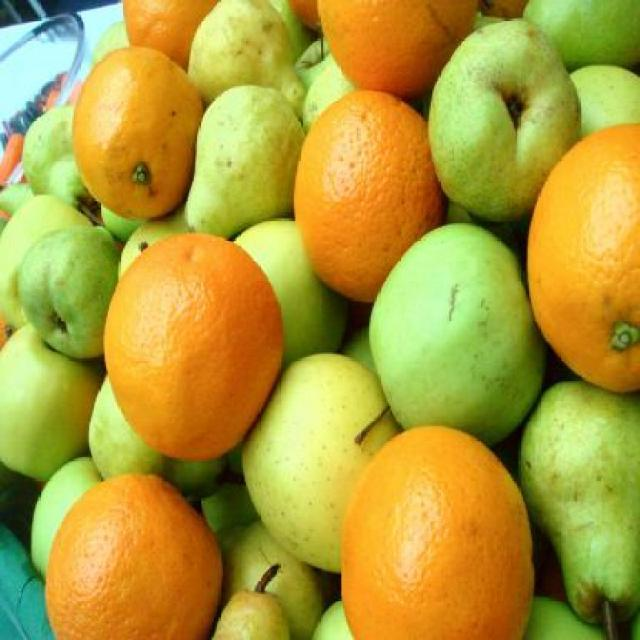Orange: (102, 228, 286, 456), (342, 428, 530, 634), (286, 86, 439, 309), (44, 472, 230, 640), (523, 123, 639, 383), (74, 46, 198, 220), (316, 0, 481, 97)
